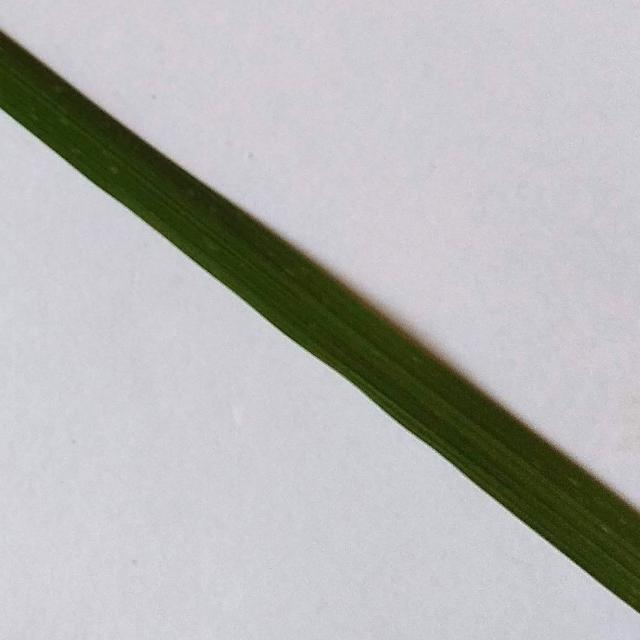Rice_Healthy: (0, 33, 640, 611)
